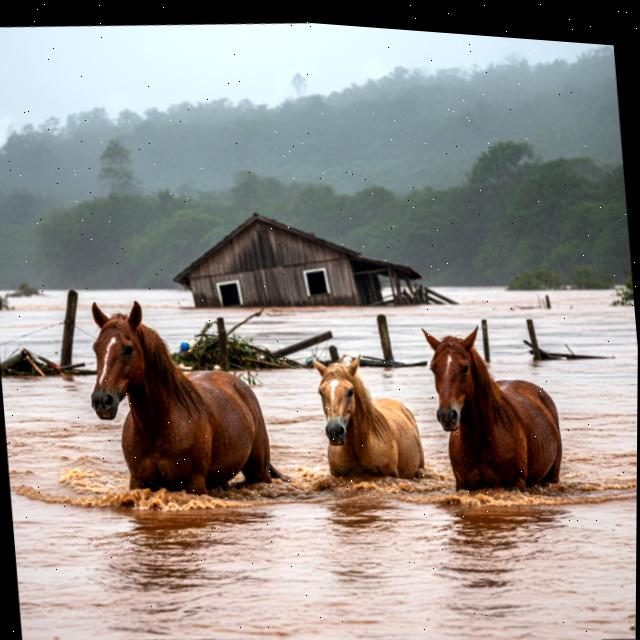horse: (69, 279, 285, 519), (410, 309, 567, 506), (302, 338, 430, 500)
